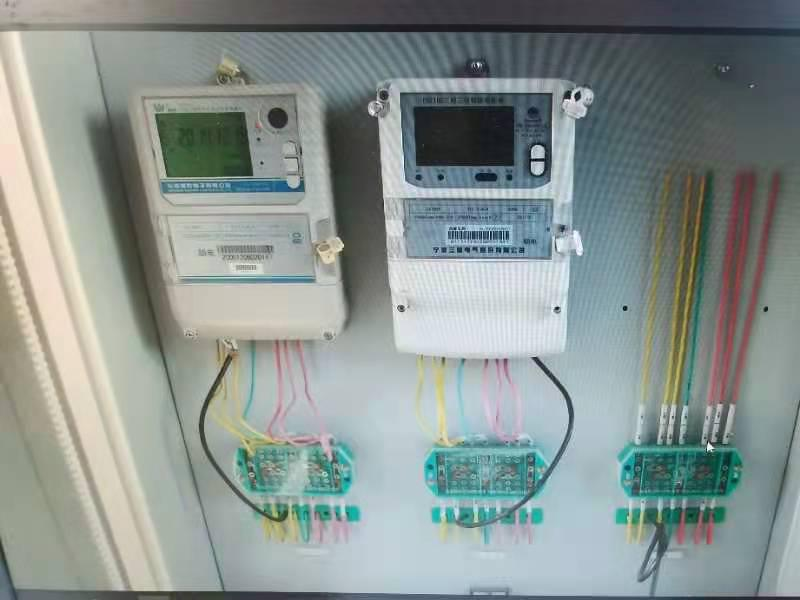digital: (128, 83, 341, 339), (378, 79, 570, 360)
